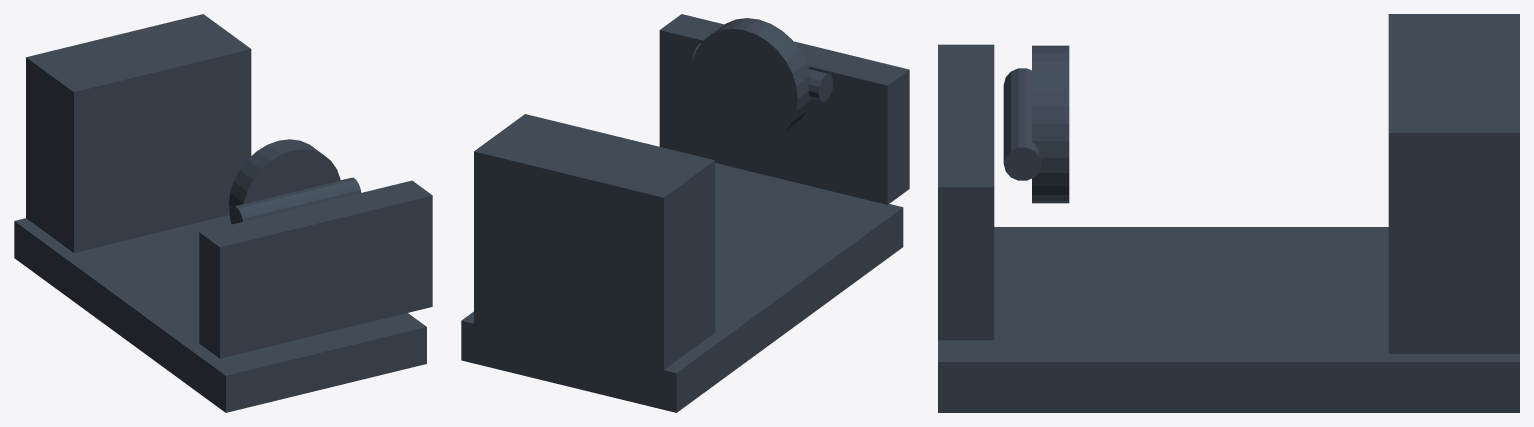
Rendered from 03_cockpit_insert.glb.
3 views of the same model, side by side, from view 1: azimuth 30°, elevation 25°; view 2: azimuth 150°, elevation 25°; view 3: azimuth 270°, elevation 25° (orthographic). The views are drawn at different scales.
Parts seen in each view (by area): view 1: Cockpit insert; view 2: Cockpit insert; view 3: Cockpit insert.
Part boxes in pixels (<box>): Cockpit insert: <box>14,14,432,412</box>; Cockpit insert: <box>461,14,909,412</box>; Cockpit insert: <box>938,14,1519,412</box>.
Bounding box in the file's own units: 0.018 × 0.0172 × 0.031.
